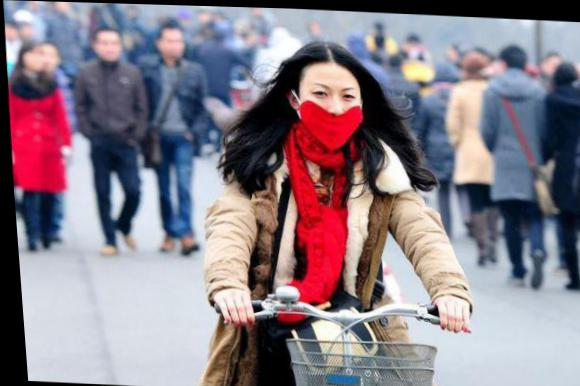NONE: (96, 37, 122, 61), (40, 50, 63, 74), (25, 49, 46, 73), (163, 36, 185, 56)
WRONG: (300, 75, 364, 146)
